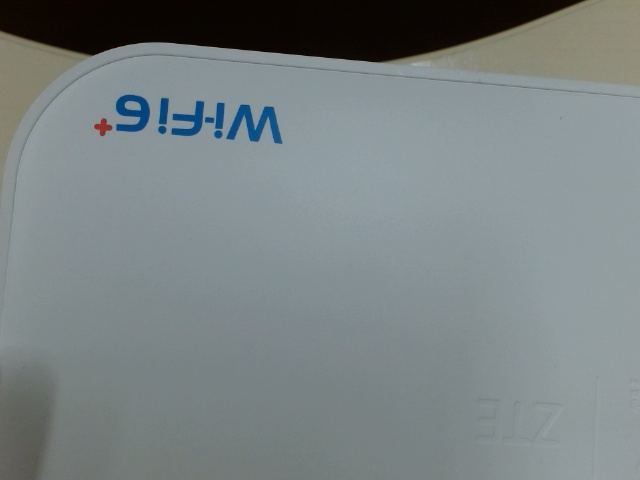AJ_ZTEWIFI6Plus: (86, 88, 291, 149)
